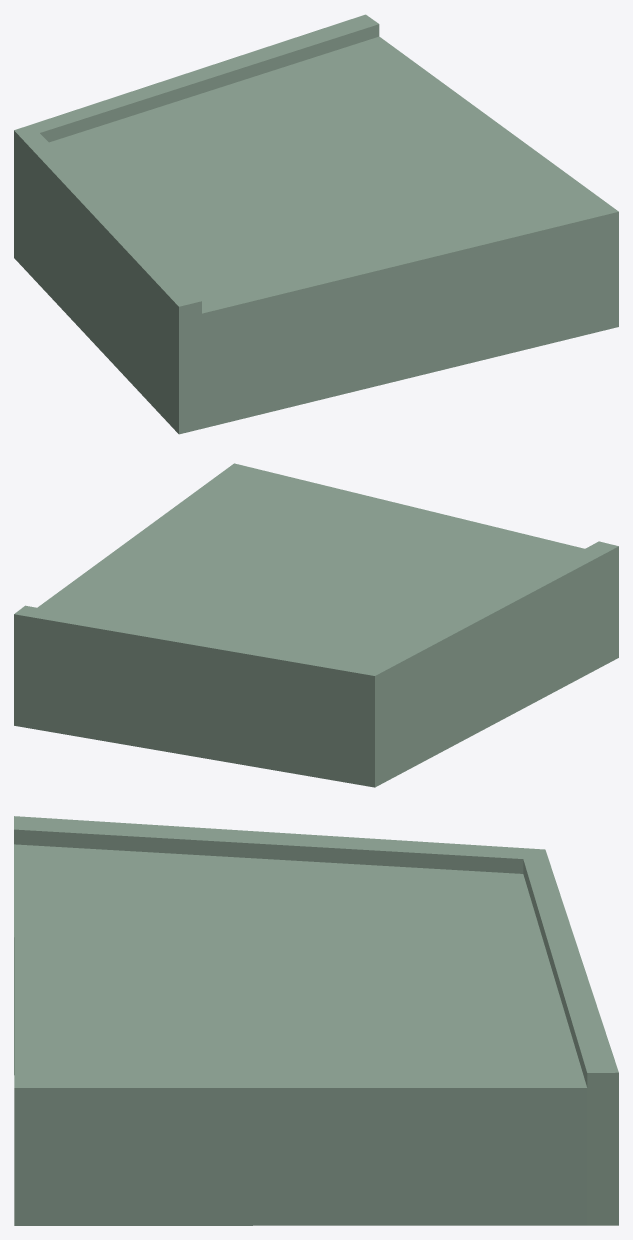
File: wfc_curvedRoad.glb
3 views of the same model, one above another, from view 1: azimuth 30°, elevation 25°; view 2: azimuth 150°, elevation 25°; view 3: azimuth 270°, elevation 25° (orthographic). The views are drawn at different scales.
Parts seen in each view (by area): view 1: CurvedRoad-col; view 2: CurvedRoad-col; view 3: CurvedRoad-col.
Boxes of the visible parts, x1,y1,x2,y2 form: CurvedRoad-col: (14,14,618,434); CurvedRoad-col: (14,463,618,787); CurvedRoad-col: (14,816,618,1225).
Bounding box in the file's own units: 8 × 2.22 × 7.95.
